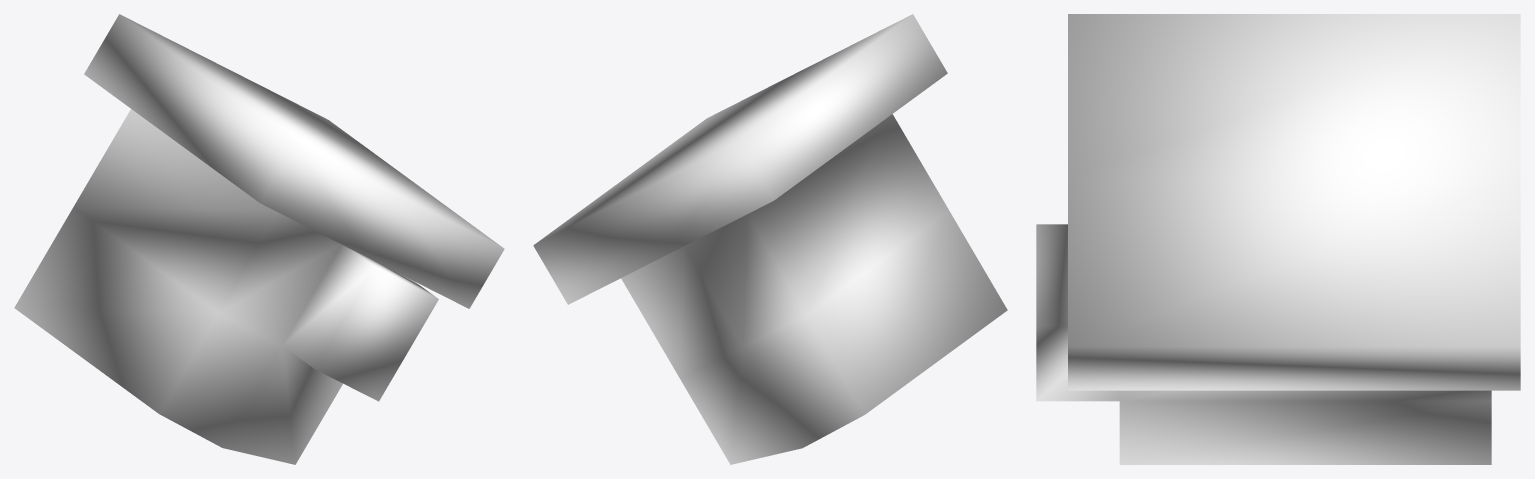
File: float_R_arm.obj
The picture shows the model from 3 angles, left to right: view 1: azimuth 30°, elevation 25°; view 2: azimuth 150°, elevation 25°; view 3: azimuth 270°, elevation 25°; orthographic projection. The views are drawn at different scales.
Parts seen in each view (by area): view 1: 立方体.002; view 2: 立方体.002; view 3: 立方体.002.
Boxes of the visible parts, <box> form: 立方体.002: <box>14,14,504,464</box>; 立方体.002: <box>533,14,1007,464</box>; 立方体.002: <box>1036,14,1520,464</box>.
Size of the model in its own units: 0.5597 by 0.5613 by 0.5615.
Materials: 1 (1 with a texture image).
